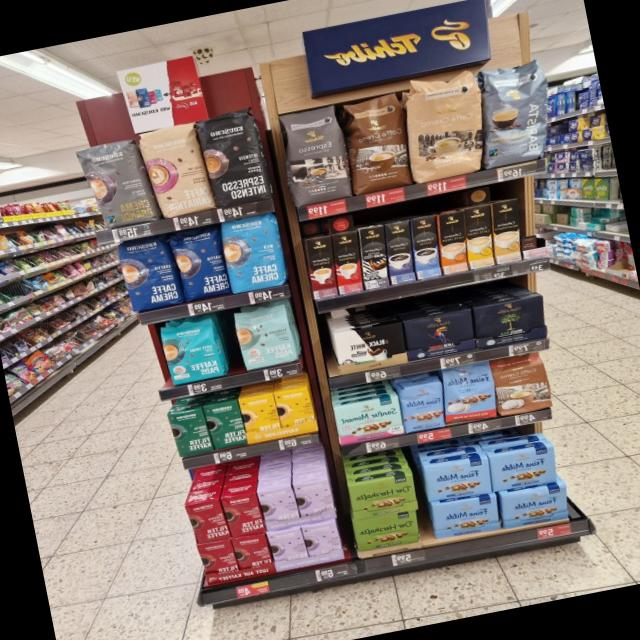BM Gemahlen: (470, 294, 552, 352)
BW Gemahlen: (332, 322, 411, 376)
Barista CC: (468, 56, 562, 169)
CC Mild: (398, 70, 496, 184)
CC Vollmundig: (489, 351, 555, 417)
CC Vollmundig 36 Pads: (337, 90, 418, 196)
Espresso Aromatisch: (277, 104, 354, 208)
FM 36 Pads: (437, 361, 501, 426)
FM Bohne: (397, 380, 450, 434)
FM Gemahlen: (487, 444, 562, 494), (429, 493, 505, 542), (498, 482, 575, 530), (420, 455, 494, 504)
Herzhatfe Mundig: (347, 473, 419, 521), (352, 508, 422, 554)
LG Gemahlen: (402, 308, 479, 362)
SM Gemahlen: (332, 393, 405, 446)
Simo CCMild bigpack: (465, 204, 494, 270)
Simo CCVollmundig bigpack: (439, 210, 468, 275)
Simo Decaff: (492, 198, 522, 265)
Simo Es Brazil: (332, 230, 363, 294)
Simo Es Caramel: (307, 236, 337, 299)
Simo Es Elegant: (360, 225, 388, 290)
Simo Es Kraft: (385, 220, 415, 284)
Simo Es Vanilla: (411, 215, 441, 279)
